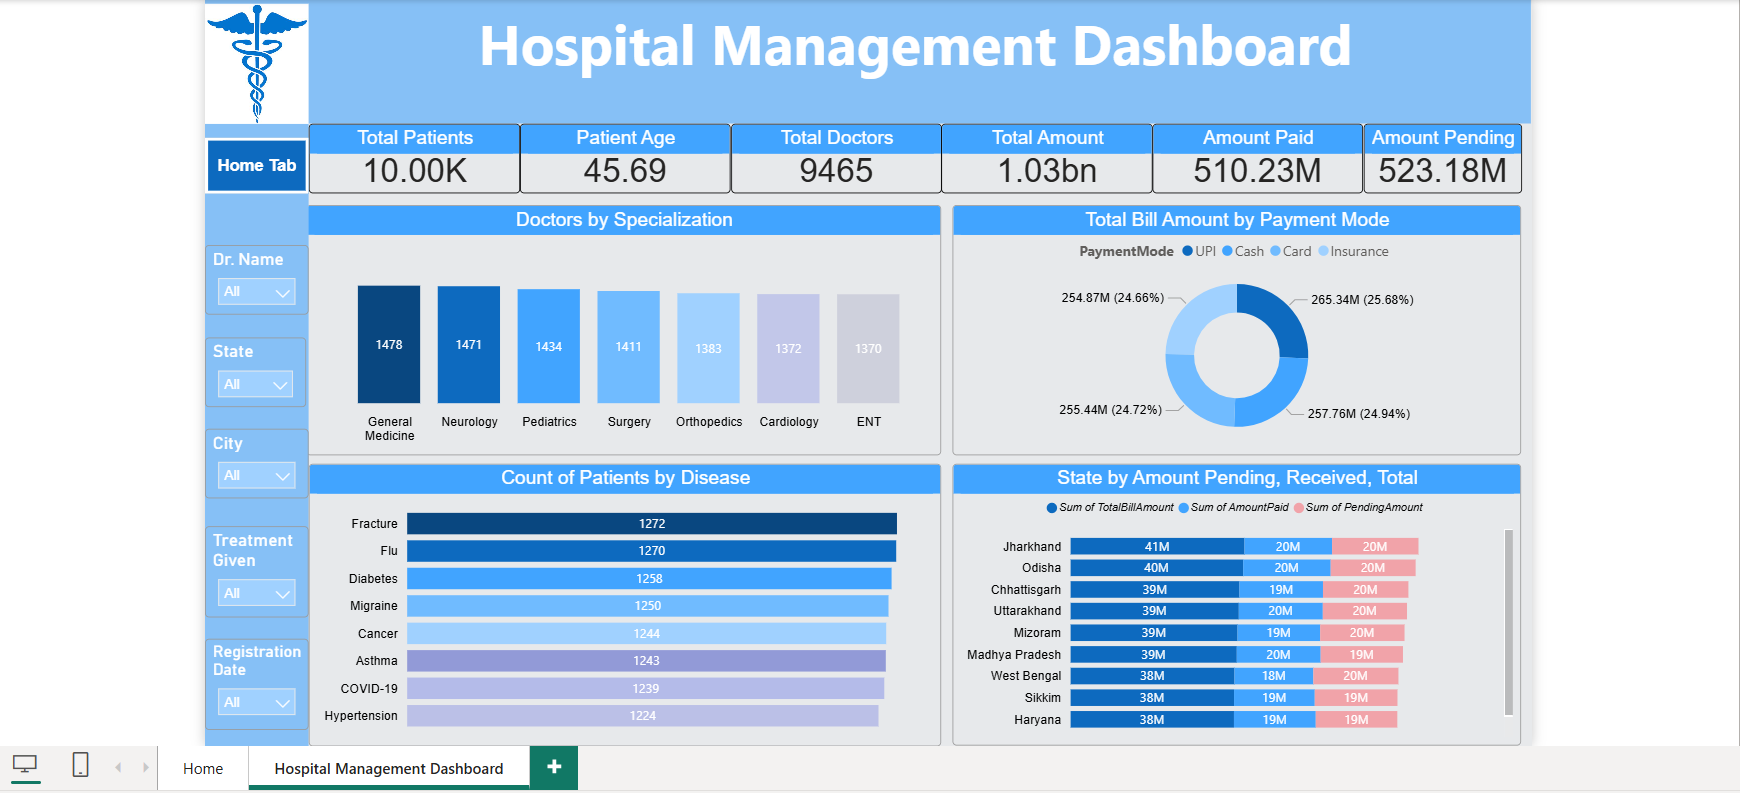

The page's visual inventory and layout, read from the dashboard file:
{"tool":"powerbi","page":{"name":"Hospital Management Dashboard","canvas":[1280,720],"ordinal":1},"visuals":[{"type":"card","title":"Total Amount","fields":{"Values":["Sum(Hospital_Management (2).TotalBillAmount)"]},"box":[710.6,119.4,204.3,67.6],"z":0,"group":"g1"},{"type":"columnChart","title":"Doctors by Specialization","fields":{"Category":["Hospital_Management (2).Specialization"],"Y":["Count(Hospital_Management (2).DoctorName)"],"Series":["Hospital_Management (2).Specialization"]},"box":[97.7,197.9,612.9,241.3],"z":0},{"type":"textbox","box":[91.7,0,1188.3,119.4],"z":1000},{"type":"card","title":"Average Patient Age","fields":{"Values":["Avg(Hospital_Management (2).Age)"]},"box":[304.4,119.4,203.1,67.6],"z":1000,"group":"g1"},{"type":"textbox","box":[0,0,100.1,720.2],"z":2000},{"type":"card","title":"Total Doctors","fields":{"Values":["Count(Hospital_Management (2).DoctorName)"]},"box":[507.5,119.4,203.1,67.6],"z":2000,"group":"g1"},{"type":"group","id":"g1","title":"Group 1","box":[100.1,119.4,1170.2,67.6],"z":3000},{"type":"card","title":"Total Patients","fields":{"Values":["Count(Hospital_Management (2).PatientID)"]},"box":[100.1,119.4,204.3,67.6],"z":3000,"group":"g1"},{"type":"card","title":"Amount Paid","fields":{"Values":["Sum(Hospital_Management (2).AmountPaid)"]},"box":[914.9,119.4,203.1,67.6],"z":4000,"group":"g1"},{"type":"donutChart","title":"Total Bill Amount by Payment Mode","fields":{"Category":["Hospital_Management (2).PaymentMode"],"Y":["Sum(Hospital_Management (2).TotalBillAmount)"]},"box":[721.5,197.9,548.9,241.3],"z":4000},{"type":"card","title":"Amount Pending","fields":{"Values":["Sum(Hospital_Management (2).PendingAmount)"]},"box":[1117.8,119.4,152.6,67.6],"z":5000,"group":"g1"},{"type":"barChart","title":"Count of Patients by Disease","fields":{"Category":["Hospital_Management (2).Disease"],"Y":["Count(Hospital_Management (2).PatientID)"]},"box":[100.1,447.6,610.5,272.7],"z":5000},{"type":"barChart","title":"State by Amount Pending, Received, Total","fields":{"Category":["Hospital_Management (2).State"],"Y":["Sum(Hospital_Management (2).TotalBillAmount)","Sum(Hospital_Management (2).AmountPaid)","Sum(Hospital_Management (2).PendingAmount)"]},"box":[721,448,549,272],"z":6000},{"type":"slicer","title":"Dr. Name","fields":{"Values":["Hospital_Management (2).DoctorName"]},"box":[0,236.5,100.1,67.6],"z":7000},{"type":"slicer","title":"State","fields":{"Values":["Hospital_Management (2).State"]},"box":[0,325.7,97.7,67.6],"z":8000},{"type":"slicer","title":"City","fields":{"Values":["Hospital_Management (2).City"]},"box":[0,413.8,100.1,67.6],"z":9000},{"type":"slicer","title":"Treatment Given","fields":{"Values":["Hospital_Management (2).TreatmentGiven"]},"box":[0,507.9,100.1,88.1],"z":10000},{"type":"slicer","title":"Registration Date","fields":{"Values":["Hospital_Management (2).RegistrationDate"]},"box":[0,616.5,100.1,88.1],"z":11000},{"type":"image","box":[0,3.6,100.1,115.8],"z":12000},{"type":"actionButton","box":[0,132.7,100.1,54.3],"z":13000}]}

Visuals, with their boxes on the page's 1280x720 design canvas (x1, y1, x2, y2). These are canvas units, not pixel positions in the 1740x793 screenshot, which may show the page scaled, cropped or inside an application window:
"Total Amount" card: x1=711, y1=119, x2=915, y2=187
"Doctors by Specialization" columnChart: x1=98, y1=198, x2=711, y2=439
textbox: x1=92, y1=0, x2=1280, y2=119
"Average Patient Age" card: x1=304, y1=119, x2=508, y2=187
textbox: x1=0, y1=0, x2=100, y2=720
"Total Doctors" card: x1=508, y1=119, x2=711, y2=187
"Group 1" group: x1=100, y1=119, x2=1270, y2=187
"Total Patients" card: x1=100, y1=119, x2=304, y2=187
"Amount Paid" card: x1=915, y1=119, x2=1118, y2=187
"Total Bill Amount by Payment Mode" donutChart: x1=722, y1=198, x2=1270, y2=439
"Amount Pending" card: x1=1118, y1=119, x2=1270, y2=187
"Count of Patients by Disease" barChart: x1=100, y1=448, x2=711, y2=720
"State by Amount Pending, Received, Total" barChart: x1=721, y1=448, x2=1270, y2=720
"Dr. Name" slicer: x1=0, y1=236, x2=100, y2=304
"State" slicer: x1=0, y1=326, x2=98, y2=393
"City" slicer: x1=0, y1=414, x2=100, y2=481
"Treatment Given" slicer: x1=0, y1=508, x2=100, y2=596
"Registration Date" slicer: x1=0, y1=616, x2=100, y2=705
image: x1=0, y1=4, x2=100, y2=119
actionButton: x1=0, y1=133, x2=100, y2=187
